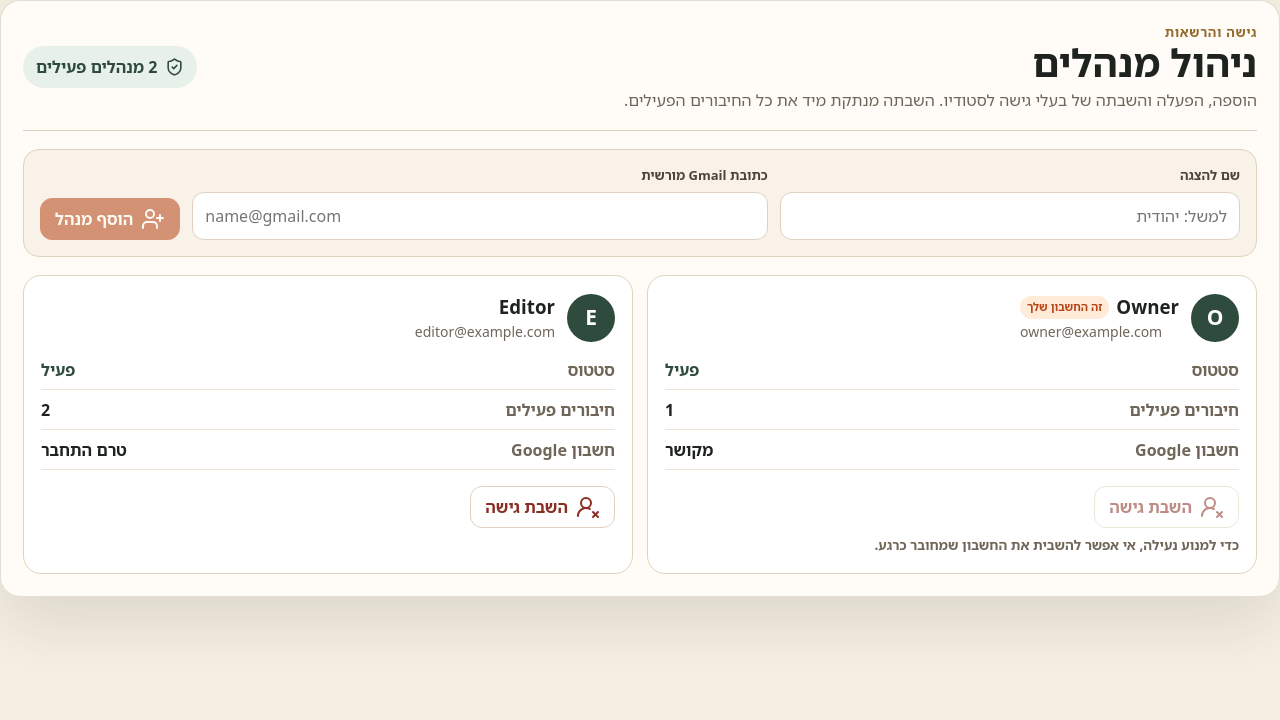
Test: admin management › protects the current administrator and uses explicit confirmation for another admin
Expected: the button "השבת גישה" below "owner@example.com" is disabled, [1094,486,1239,528]
Click the button "השבת גישה" below "editor@example.com".
click(543, 508)  # box [470,486,615,528]
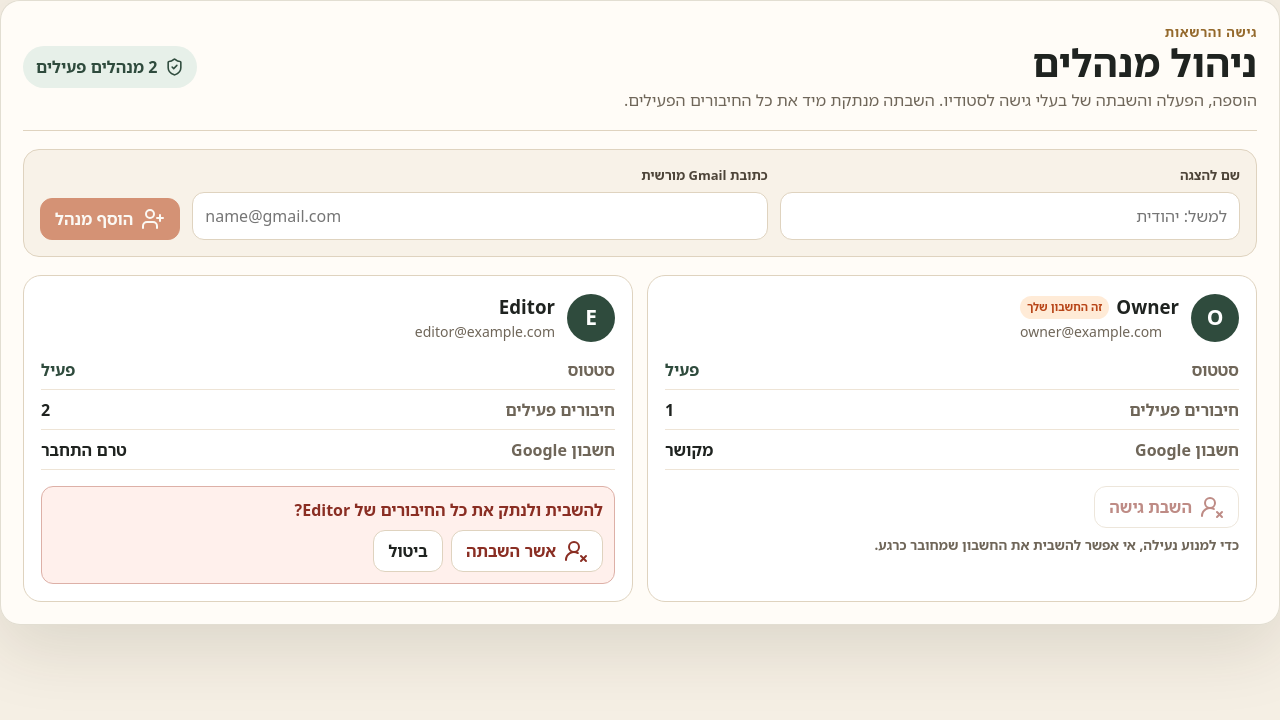
Expected: the text "להשבית ולנתק את כל החיבורים של Editor?" is shown, [294,500,603,522]
Click the button "אשר השבתה".
click(527, 552)  # box [451,530,603,572]
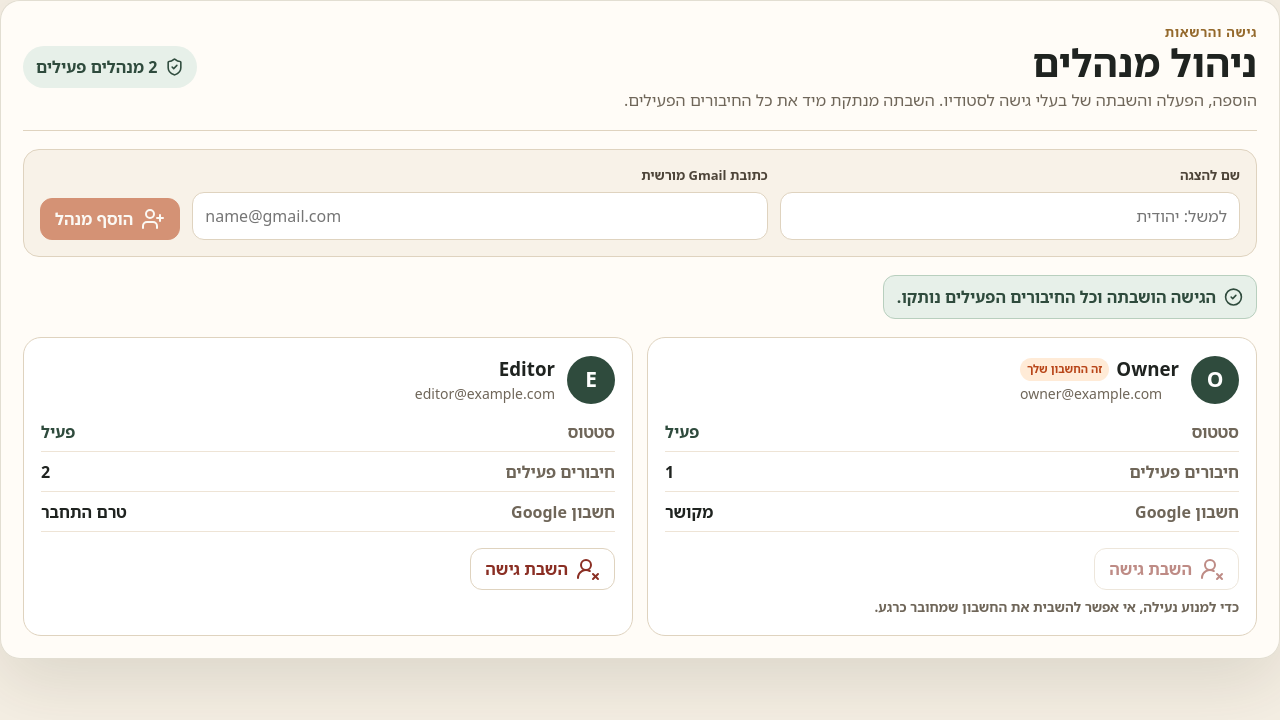
Expected: the text "הגישה הושבתה וכל החיבורים הפעילים נותקו." is shown, [883,275,1257,319]
